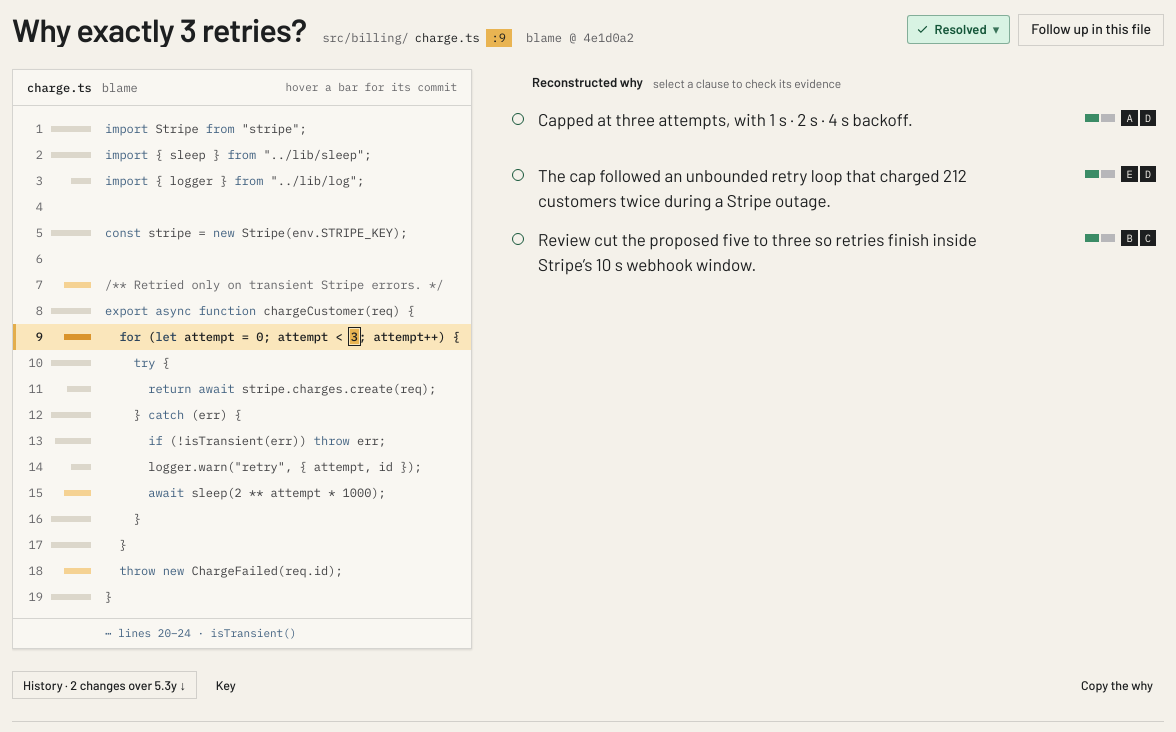
Test: LineInvestigation — verdict and key › toggles the key and remembers it
Click the button "Key" at (226, 685), box [205,671,247,699]
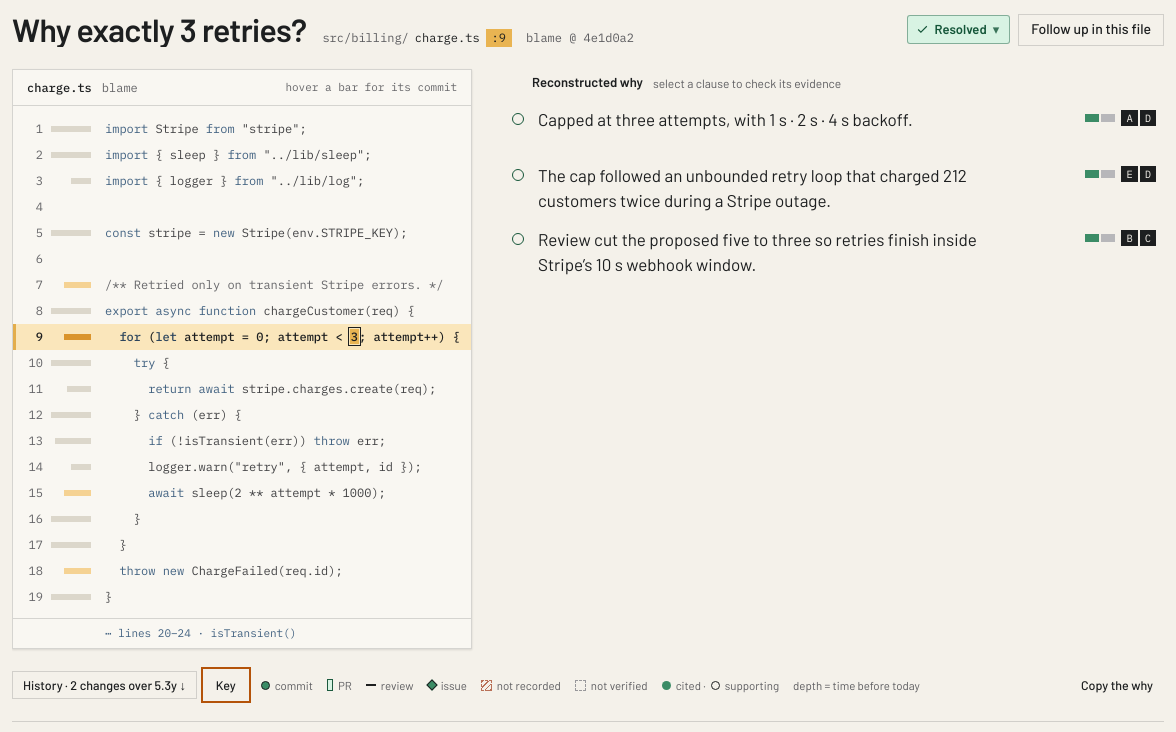
Check: the list named "Key" is shown, box [261,677,920,694]
